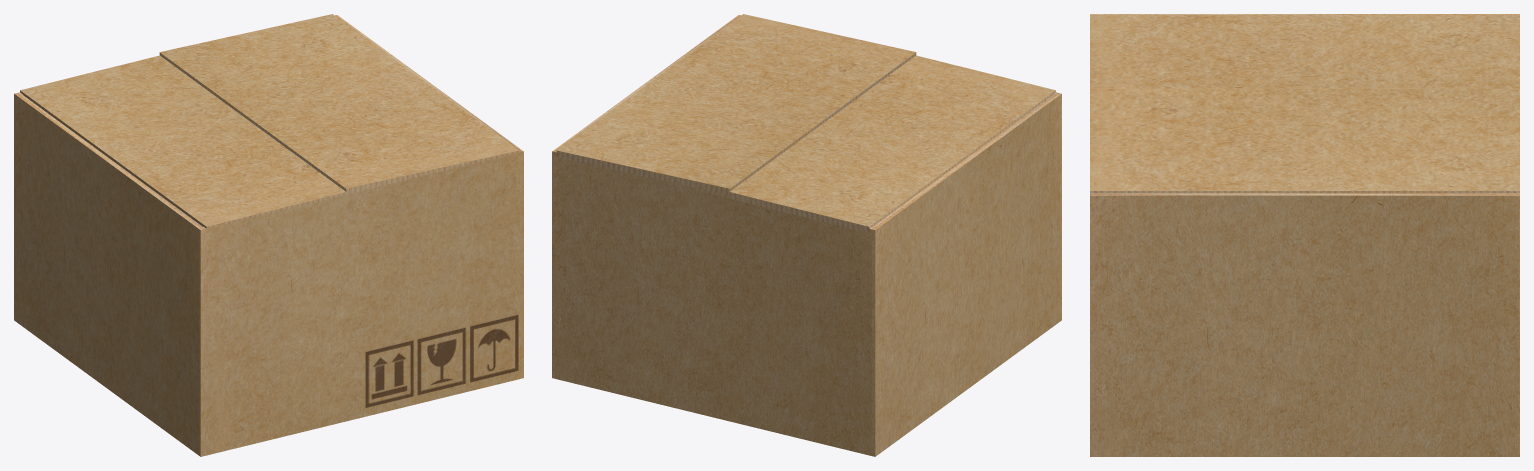
The model's file is LittleBigNew.fbx.
The picture shows the model from 3 angles, left to right: view 1: azimuth 30°, elevation 25°; view 2: azimuth 150°, elevation 25°; view 3: azimuth 270°, elevation 25°; orthographic projection. The views are drawn at different scales.
Visible parts, largest first — view 1: Small_Open_Box, Small_Open_Box.001, Small_Open_Box.002; view 2: Small_Open_Box, Small_Open_Box.001, Small_Open_Box.002; view 3: Small_Open_Box, Small_Open_Box.001, Small_Open_Box.002.
Boxes of the visible parts, x1,y1,x2,y2 form: Small_Open_Box: (14, 15, 523, 456); Small_Open_Box.001: (159, 14, 519, 193); Small_Open_Box.002: (20, 55, 379, 228); Small_Open_Box: (552, 15, 1061, 456); Small_Open_Box.001: (556, 14, 916, 194); Small_Open_Box.002: (696, 55, 1055, 233); Small_Open_Box: (1090, 14, 1519, 456); Small_Open_Box.001: (1090, 88, 1519, 193); Small_Open_Box.002: (1090, 15, 1519, 88).
Bounding box in the file's own units: 1.14 × 0.788 × 1.14.
